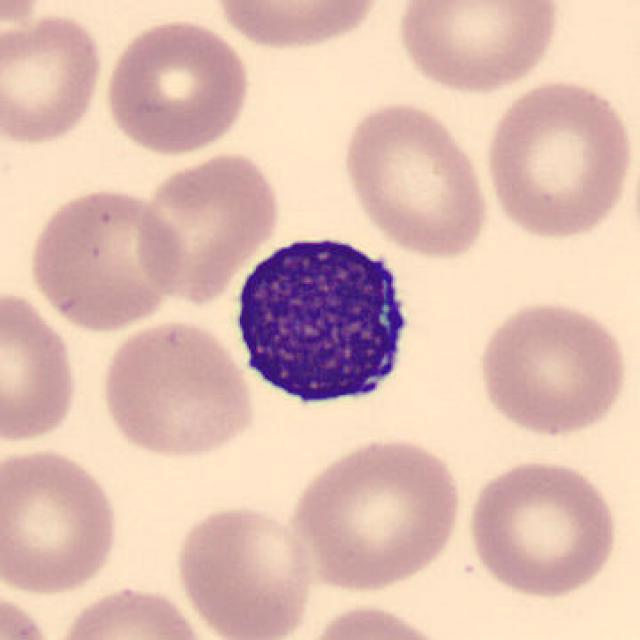Lymphocyte: (226, 218, 423, 418)
RBC: (282, 434, 468, 594), (480, 74, 636, 243), (338, 97, 492, 261), (23, 183, 187, 335), (133, 148, 284, 307), (96, 317, 258, 462), (462, 455, 622, 601), (473, 294, 633, 439), (102, 14, 255, 159), (170, 500, 316, 640), (0, 442, 124, 597), (391, 0, 565, 97), (0, 9, 107, 148), (0, 284, 82, 448), (206, 0, 390, 53), (50, 582, 212, 640), (297, 601, 457, 640), (0, 587, 59, 640), (0, 0, 50, 41)
